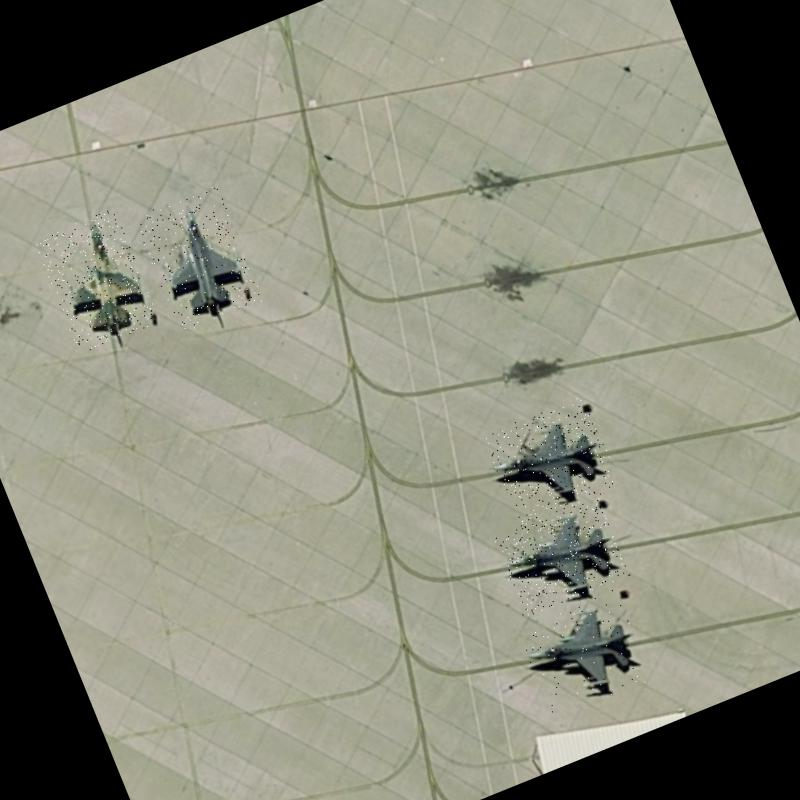A5: (132, 183, 264, 334), (33, 207, 160, 354), (482, 393, 621, 526), (516, 588, 652, 719), (492, 496, 630, 618)
